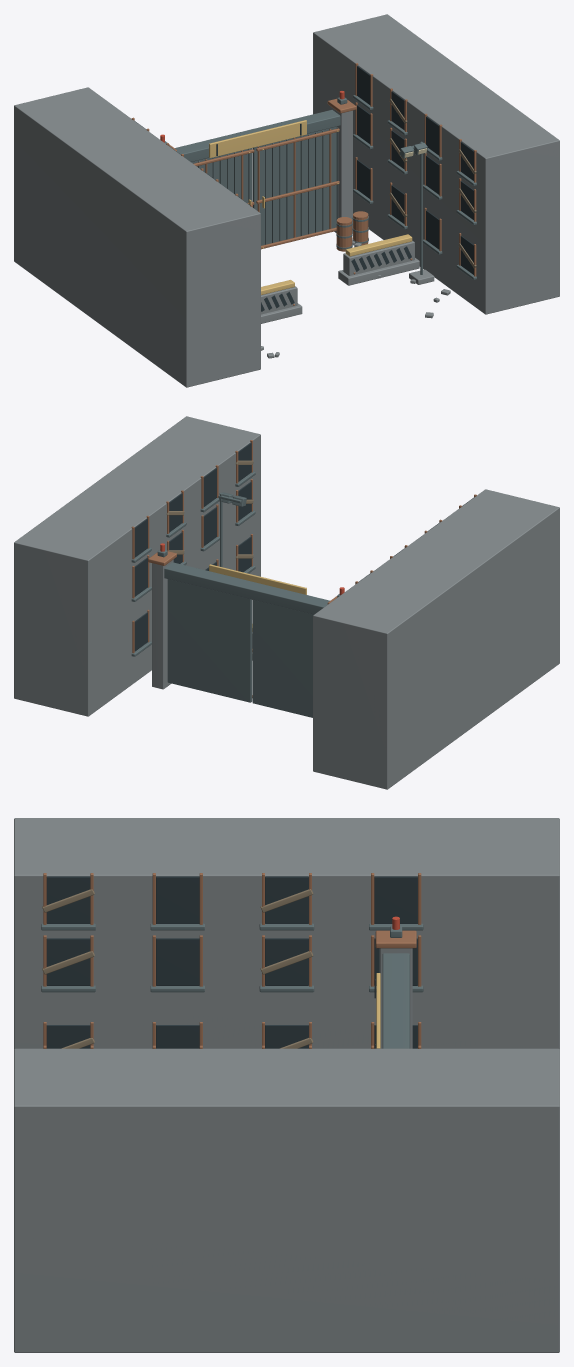
The model's file is MenuQuarantine.fbx.
3 views of the same model, one above another, from view 1: azimuth 30°, elevation 25°; view 2: azimuth 150°, elevation 25°; view 3: azimuth 270°, elevation 25° (orthographic). The views are drawn at different scales.
Parts seen in each view (by area): view 1: SideFacade, SideFacade.001, GatePanel.001, GatePier.001, GateHeader, GateSign, GatePanel, BarrierBody.001, BarrierFoot.001, BarrierCap.001, BarrierBody, FuelDrum; view 2: SideFacade, SideFacade.001, GatePanel.001, GatePanel, GateHeader, GatePier.001, GateSign; view 3: SideFacade.001, SideFacade, GateHeader, WindowRecess.005, WindowRecess.009, WindowRecess.011, WindowRecess.004, WindowRecess.008, WindowRecess.010, WindowRecess.006, WindowRecess.001, WindowRecess (+3 smaller).
Boxes of the visible parts, left/top/right/bottom form: SideFacade: left=14, top=87, right=260, bottom=387; SideFacade.001: left=313, top=14, right=559, bottom=314; GatePanel.001: left=252, top=126, right=336, bottom=245; GatePier.001: left=331, top=107, right=352, bottom=233; GateHeader: left=175, top=110, right=340, bottom=161; GateSign: left=209, top=120, right=306, bottom=158; GatePanel: left=191, top=148, right=252, bottom=202; BarrierBody.001: left=343, top=241, right=414, bottom=275; BarrierFoot.001: left=338, top=258, right=419, bottom=285; BarrierCap.001: left=345, top=234, right=412, bottom=256; BarrierBody: left=261, top=286, right=297, bottom=314; FuelDrum: left=336, top=217, right=352, bottom=251; SideFacade: left=313, top=489, right=559, bottom=789; SideFacade.001: left=14, top=416, right=260, bottom=716; GatePanel.001: left=167, top=579, right=252, bottom=702; GatePanel: left=252, top=600, right=313, bottom=717; GateHeader: left=164, top=562, right=329, bottom=614; GatePier.001: left=152, top=559, right=173, bottom=689; GateSign: left=209, top=564, right=306, bottom=594; SideFacade.001: left=14, top=1048, right=559, bottom=1352; SideFacade: left=14, top=818, right=559, bottom=1049; GateHeader: left=382, top=953, right=409, bottom=1048; WindowRecess.005: left=156, top=938, right=199, bottom=985; WindowRecess.009: left=156, top=876, right=199, bottom=923; WindowRecess.011: left=374, top=876, right=417, bottom=923; WindowRecess.004: left=46, top=938, right=90, bottom=985; WindowRecess.008: left=46, top=876, right=90, bottom=923; WindowRecess.010: left=265, top=876, right=308, bottom=923; WindowRecess.006: left=265, top=938, right=308, bottom=985; WindowRecess.001: left=156, top=1025, right=199, bottom=1048; WindowRecess: left=46, top=1025, right=90, bottom=1048.
Size of the model in its own units: 2500 by 1008 by 2000.
